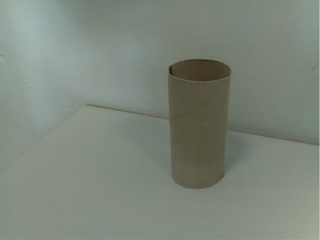rollo papel: (166, 58, 234, 193)
